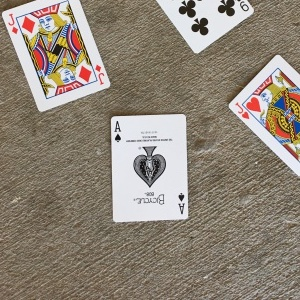card: (109, 111, 191, 222)
